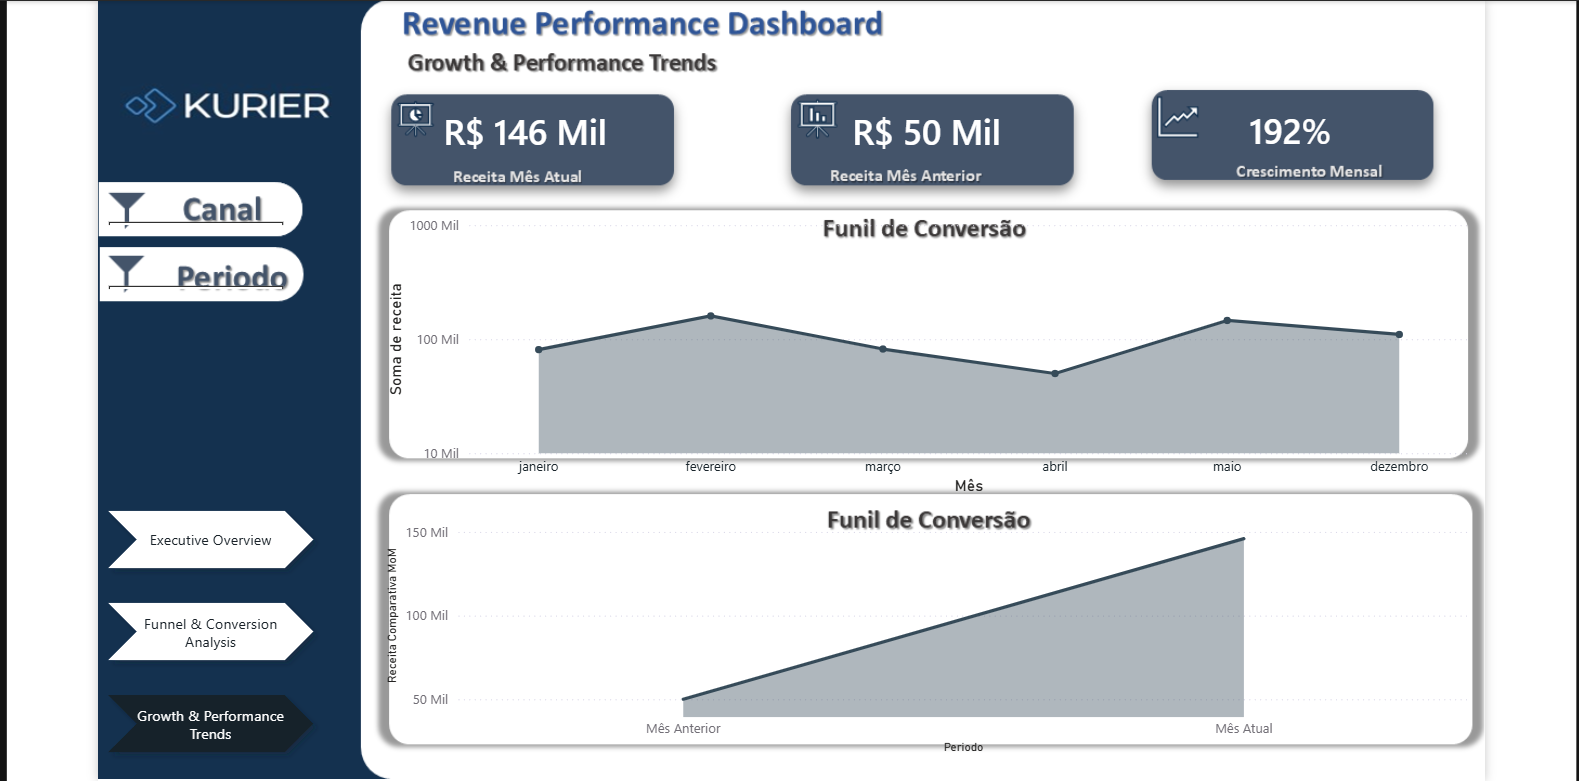

Layout of this report page (visuals, bound fields, positions):
{"tool":"powerbi","page":{"name":"Growth & Performance Trends","canvas":[1280,720],"ordinal":2},"visuals":[{"type":"cardVisual","fields":{"Data":["Medidas.Receita Mês Atual"]},"box":[261,51.8,266.4,133.8],"z":0},{"type":"cardVisual","fields":{"Data":["Medidas.Receita Mês Anterior"]},"box":[661.6,80.4,206.3,76.5],"z":1000},{"type":"cardVisual","fields":{"Data":["Medidas.Crescimento Receita MoM (x)"]},"box":[1014.5,79.1,172.5,76.5],"z":2000},{"type":"areaChart","fields":{"Y":["Sum(revenue_by_month.receita)"],"Category":["revenue_by_month.mes.Variation.Hierarquia de datas.Mês"]},"box":[261,193.1,1008.5,267.5],"z":3000},{"type":"areaChart","fields":{"Category":["Periodo Comparativo.Periodo"],"Y":["Periodo Comparativo.Receita Comparativa MoM"]},"box":[261,460.6,1008.5,238.4],"z":4000},{"type":"slicer","fields":{"Values":["revenue_by_month.mes","revenue_by_month.mes","revenue_by_month.mes.Variation.Hierarquia de datas.Mês"]},"box":[0,253,180.7,13],"z":5000},{"type":"slicer","fields":{"Values":["revenue_by_source.canal"]},"box":[0,193.7,180.7,13],"z":6000},{"type":"pageNavigator","box":[0,461.8,208.9,241.3],"z":7000}]}

Visuals, with their boxes on the page's 1280x720 design canvas (x1, y1, x2, y2). These are canvas units, not pixel positions in the 1579x781 screenshot, which may show the page scaled, cropped or inside an application window:
cardVisual - Medidas.Receita Mês Atual: rect(261, 52, 527, 186)
cardVisual - Medidas.Receita Mês Anterior: rect(662, 80, 868, 157)
cardVisual - Medidas.Crescimento Receita MoM (x): rect(1014, 79, 1187, 156)
areaChart - Sum(revenue_by_month.receita) x revenue_by_month.mes.Variation.Hierarquia de datas.Mês: rect(261, 193, 1270, 461)
areaChart - Periodo Comparativo.Periodo x Periodo Comparativo.Receita Comparativa MoM: rect(261, 461, 1270, 699)
slicer - revenue_by_month.mes x revenue_by_month.mes: rect(0, 253, 181, 266)
slicer - revenue_by_source.canal: rect(0, 194, 181, 207)
pageNavigator: rect(0, 462, 209, 703)
